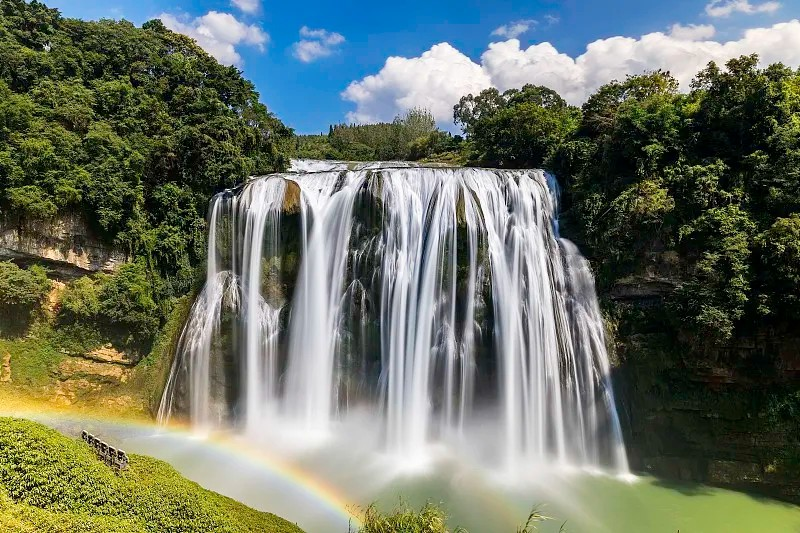Huangguoshu: (170, 156, 631, 479)
